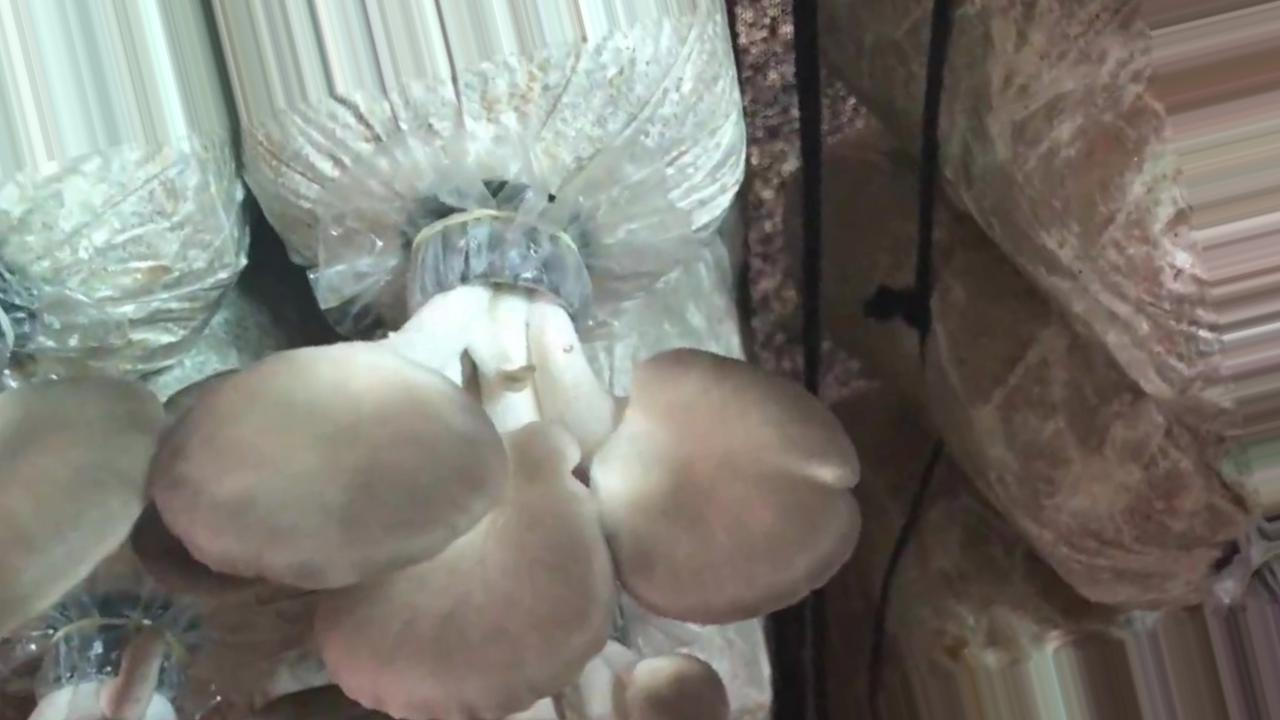nam: (158, 221, 861, 720), (242, 634, 732, 720), (1, 378, 163, 630)
